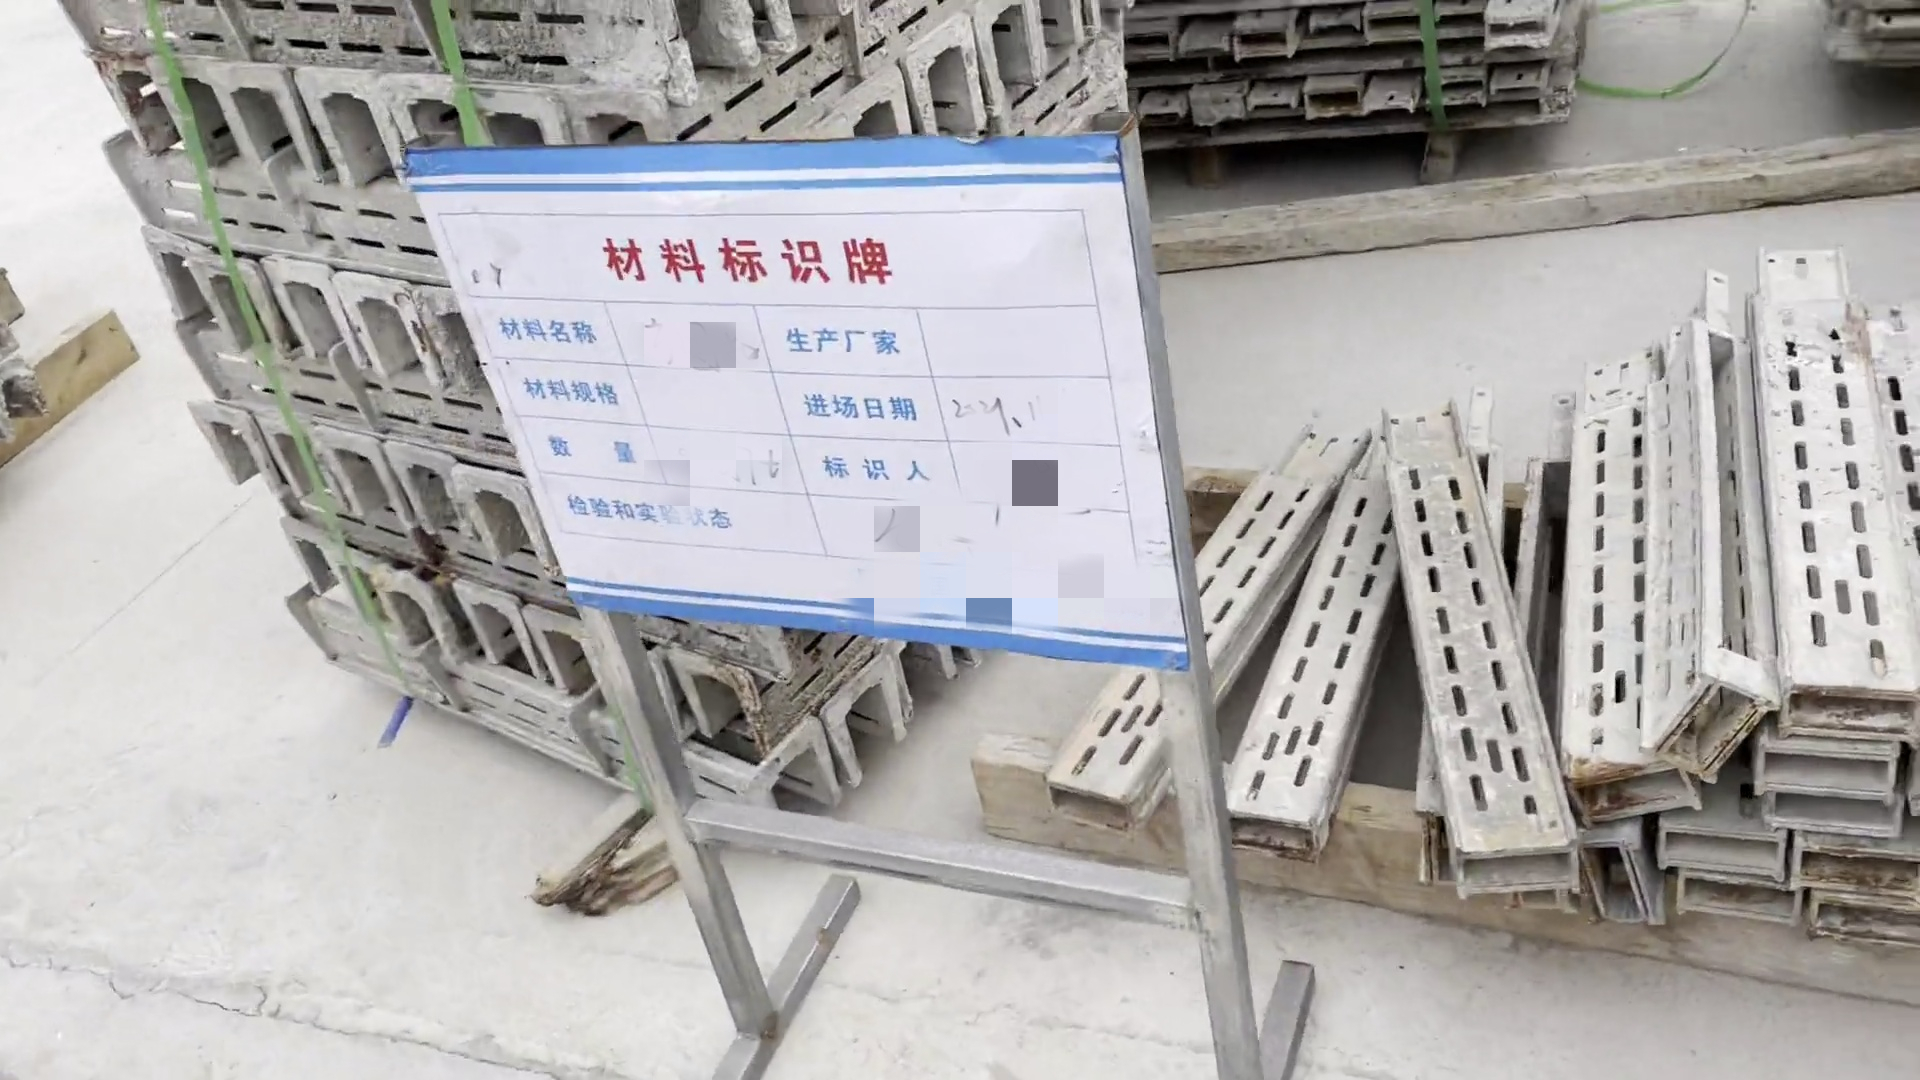slogan: (367, 102, 1230, 716)
